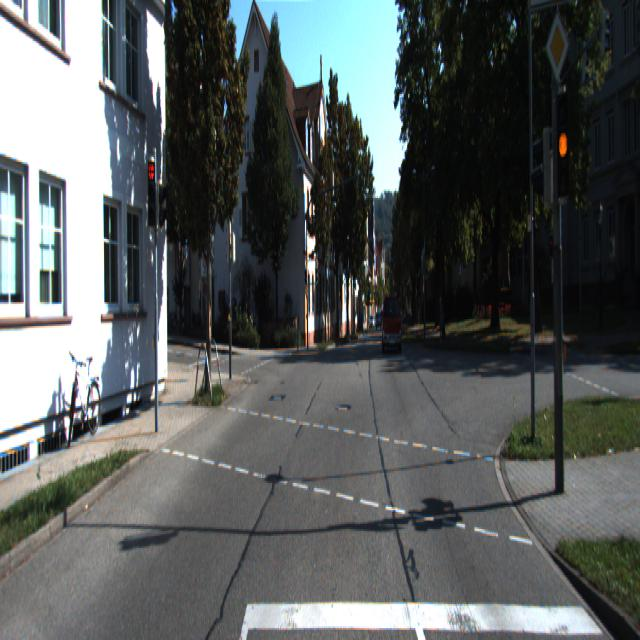Car: (381, 296, 403, 354)
